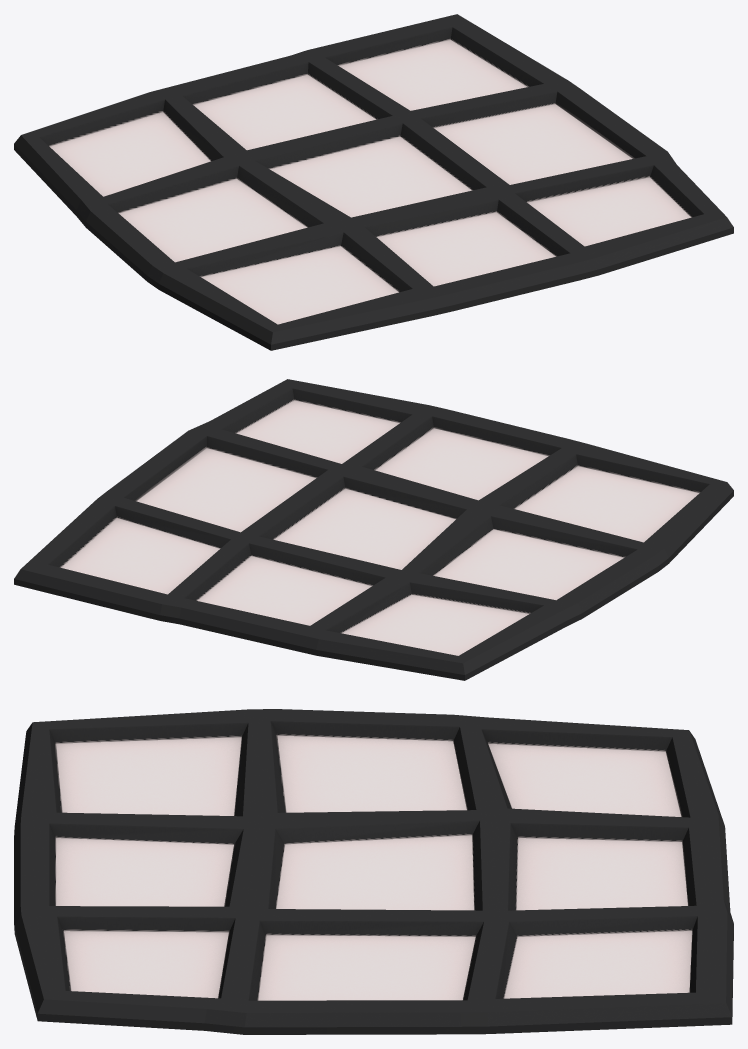
The model's file is Grille.FBX.
3 renders of one model, top to bottom at view 1: azimuth 30°, elevation 25°; view 2: azimuth 150°, elevation 25°; view 3: azimuth 270°, elevation 25°, orthographic. The views are drawn at different scales.
Visible parts, largest first — view 1: Grille; view 2: Grille; view 3: Grille.
Boxes of the visible parts, bbox=[...] form: Grille: bbox=[14, 14, 733, 350]; Grille: bbox=[14, 379, 733, 680]; Grille: bbox=[14, 709, 733, 1034].
Bounding box in the file's own units: 34.44 × 0.9993 × 33.86.
